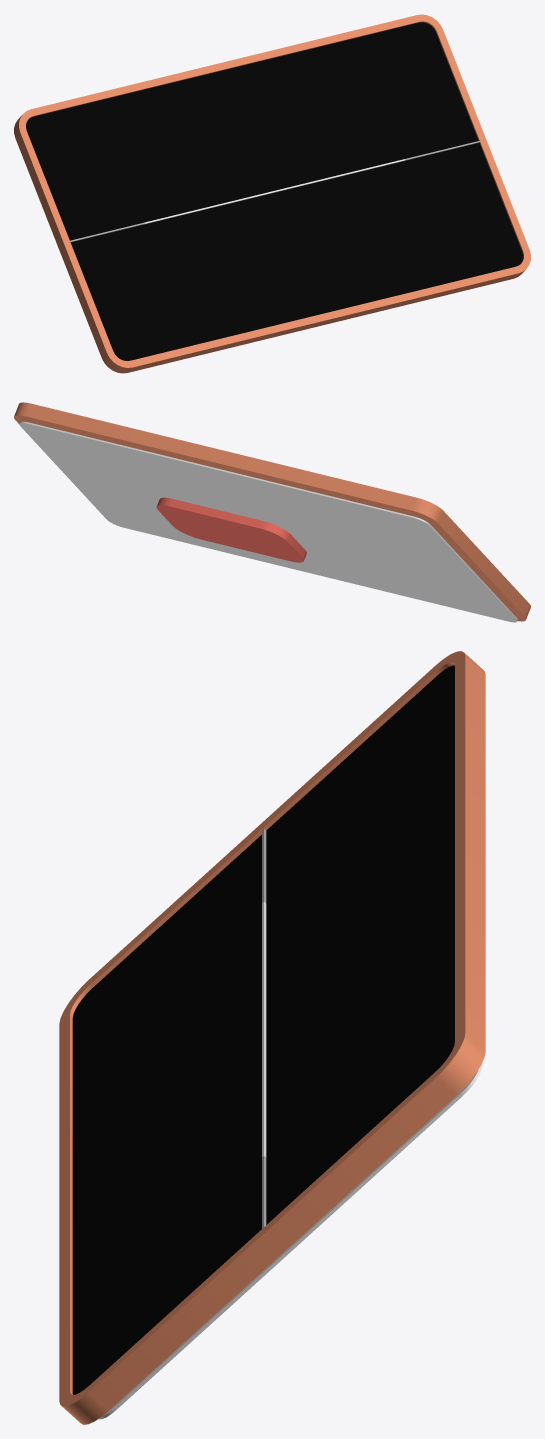
Rendered from display.glb.
3 renders of one model, top to bottom at view 1: azimuth 30°, elevation 25°; view 2: azimuth 150°, elevation 25°; view 3: azimuth 270°, elevation 25°, orthographic. The views are drawn at different scales.
Visible parts, largest first — view 1: Cube.130, Cube.135; view 2: Cube.267, Cube.130, site_button; view 3: Cube.130, Cube.267, Cube.135.
Part boxes in pixels (x1,y1,x2,y2): Cube.130: [14, 14, 530, 373]; Cube.135: [70, 141, 479, 242]; Cube.267: [19, 421, 517, 622]; Cube.130: [14, 402, 530, 621]; site_button: [156, 497, 306, 562]; Cube.130: [59, 651, 485, 1424]; Cube.267: [99, 1064, 481, 1419]; Cube.135: [262, 829, 266, 1228].
Size of what is drawn, in the model's own units: 3.4 by 1.48 by 1.48.
